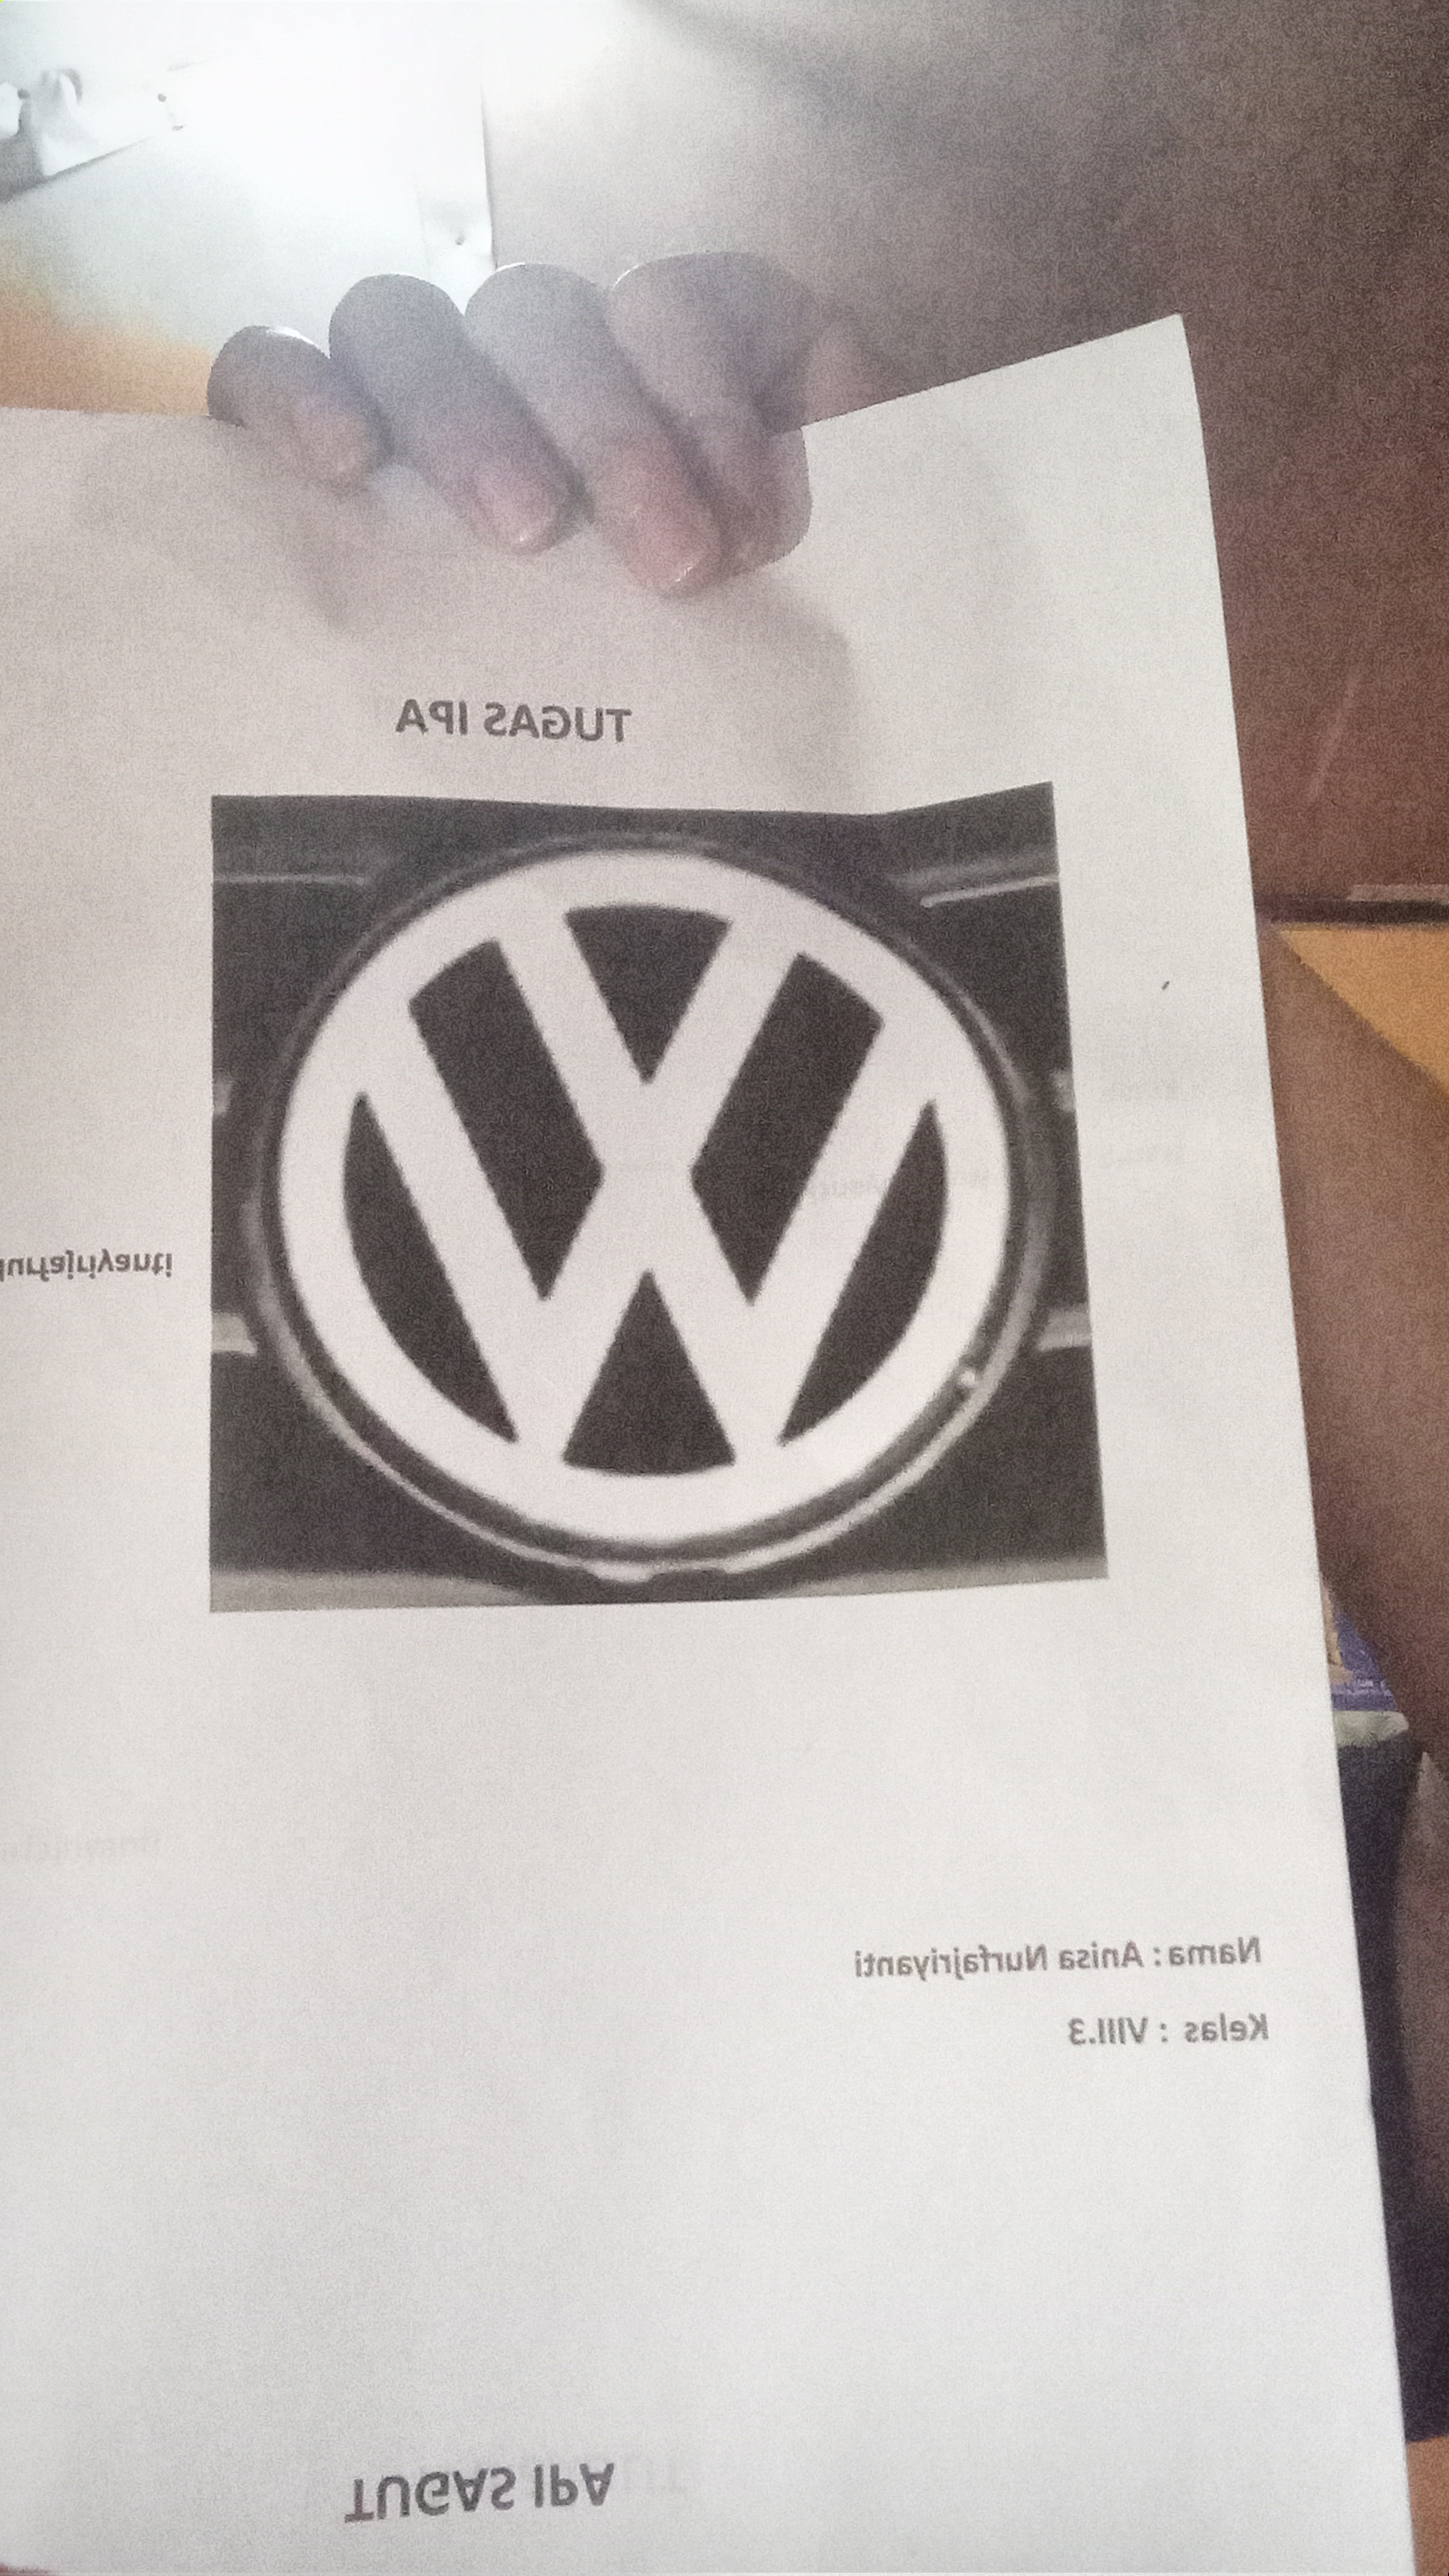Volkswagen: (214, 803, 1090, 1615)
